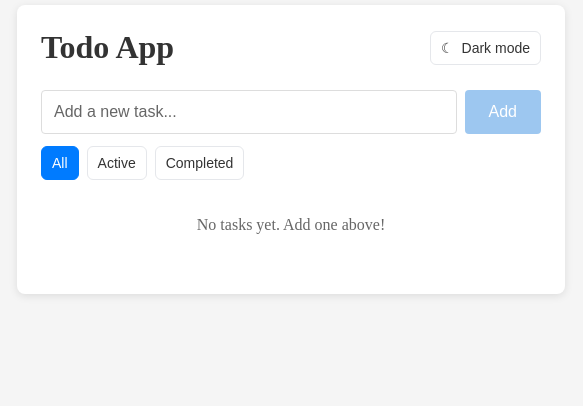
Test: shows only active todos when the Active filter is selected
The width and height of the screenshot is (583, 406).
In the field with placeholder "Add a new task...": (249, 112) x1=41 y1=90 x2=456 y2=134, type "active task"
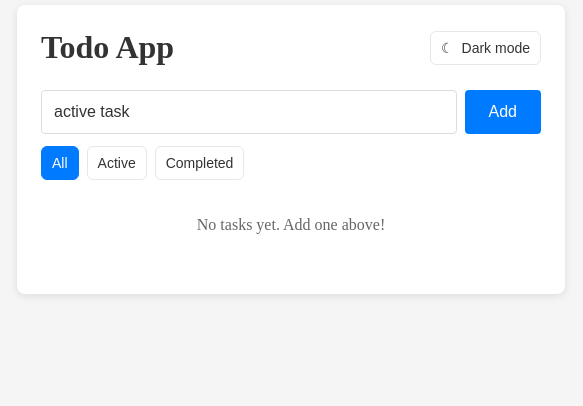
Submit the form with placeholder "Add a new task", box x1=41 y1=90 x2=541 y2=134
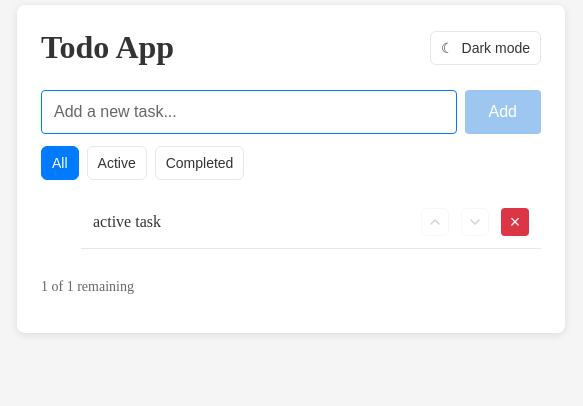
In the field with placeholder "Add a new task...": (249, 112) x1=41 y1=90 x2=456 y2=134, type "completed task"
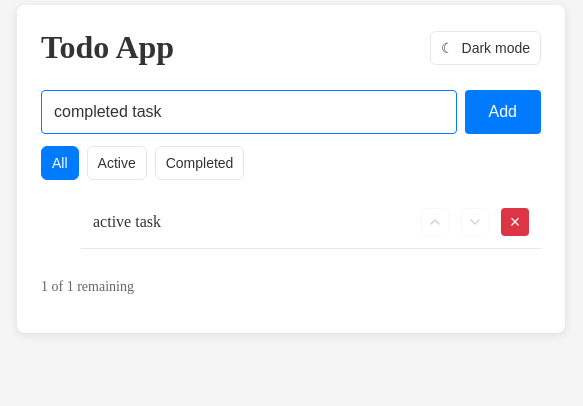
Submit the form with placeholder "Add a new task", box x1=41 y1=90 x2=541 y2=134
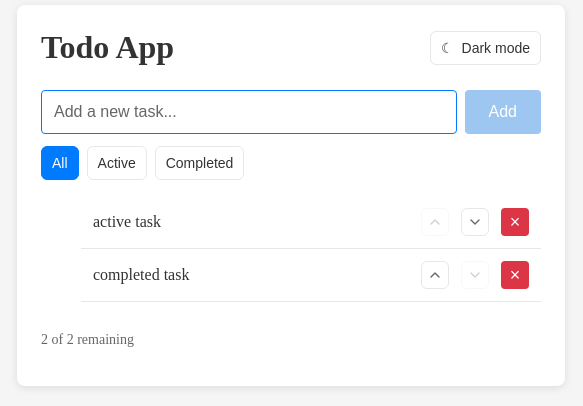
Click the text "completed task": click(141, 274) x1=93 y1=266 x2=189 y2=283
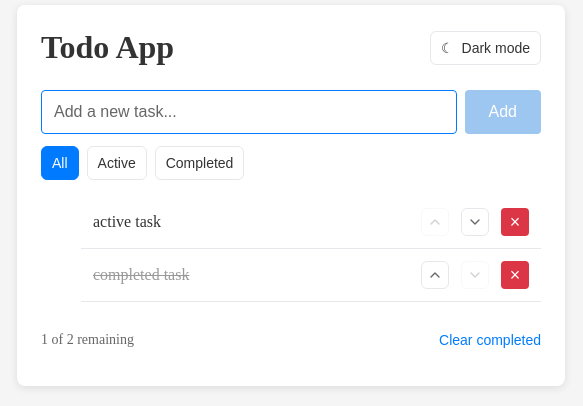
Click the button "Active": click(117, 163) x1=87 y1=146 x2=147 y2=180
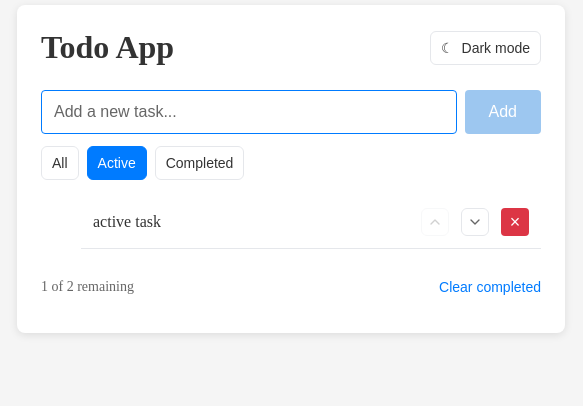
Check: the text "active task" is shown, box x1=93 y1=213 x2=161 y2=230
Check: the text "completed task" is gone
